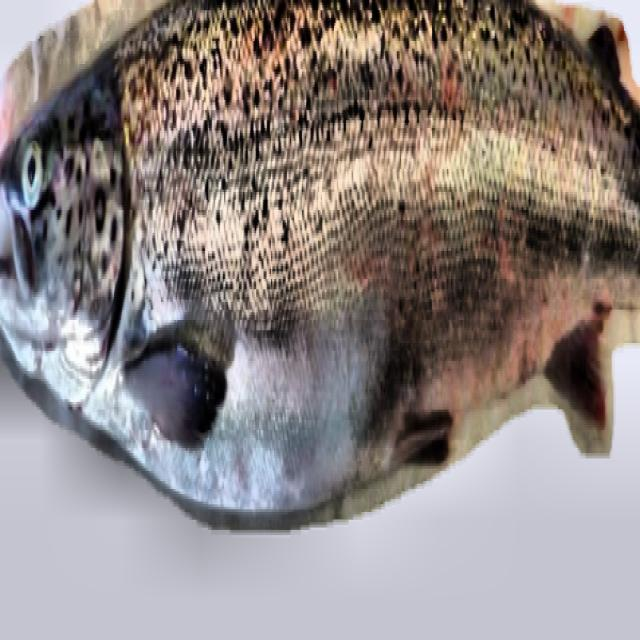mild_red: (64, 0, 639, 512)
